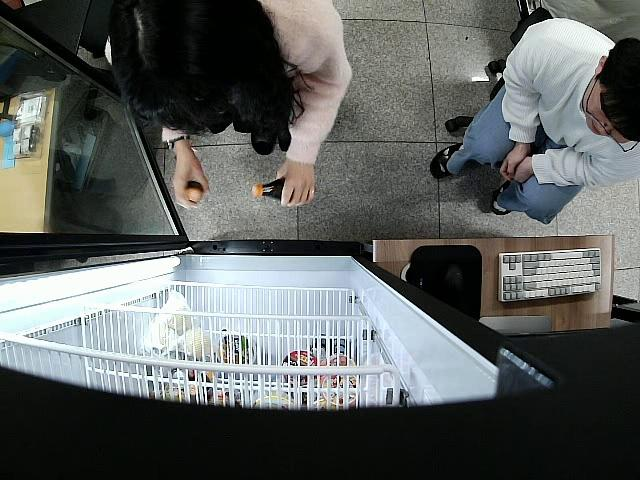00_hand: (171, 154, 209, 208), (276, 166, 314, 207), (501, 149, 521, 183)
17_vita500: (252, 174, 314, 204), (185, 179, 204, 204)
